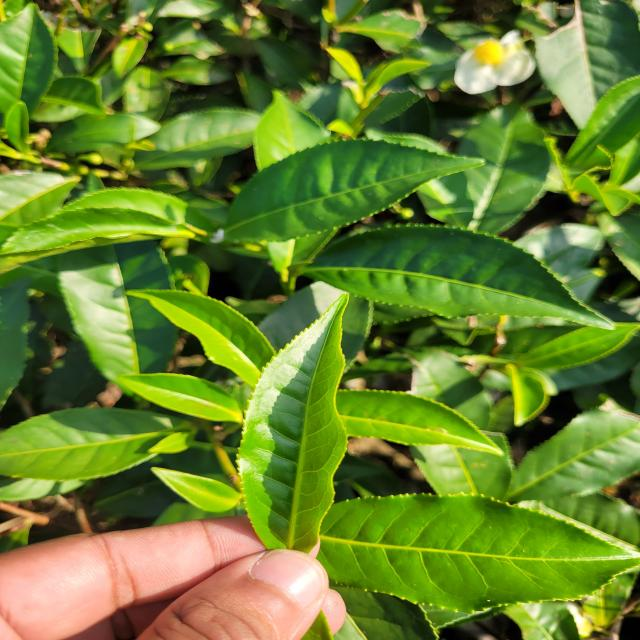Category B(2-4 days): (222, 275, 390, 578)
